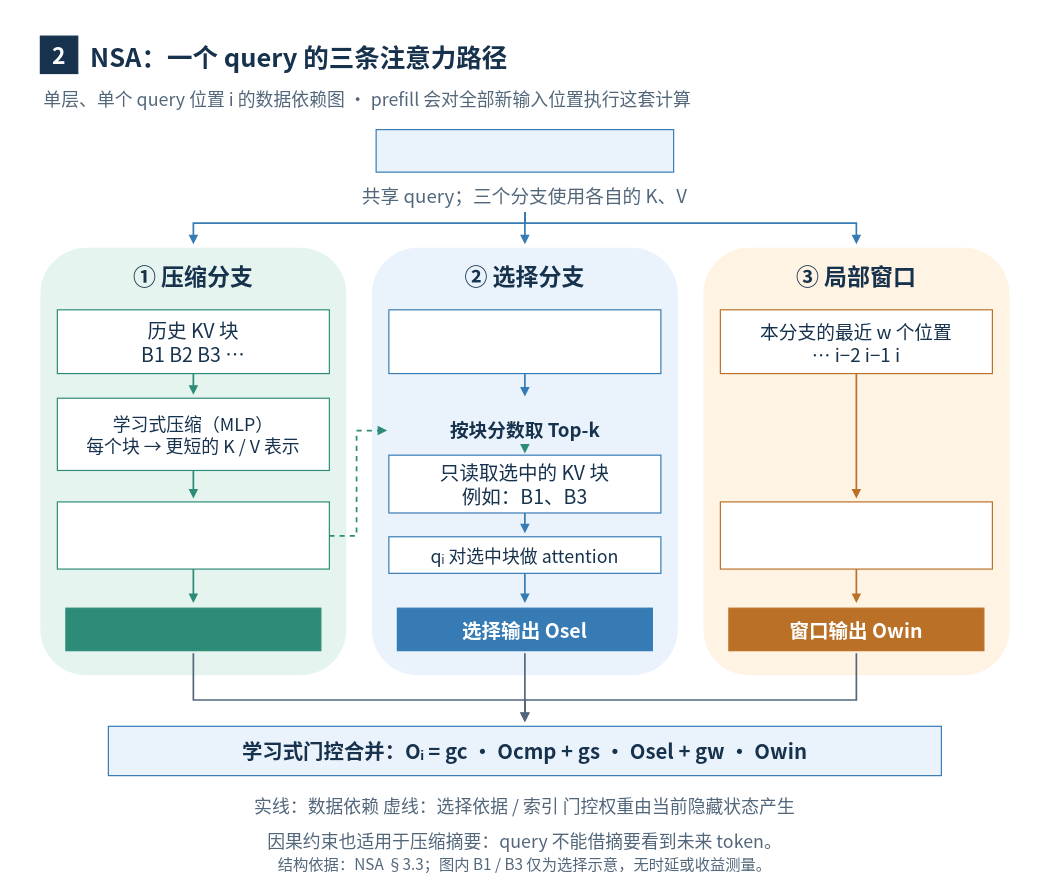
The diagram is 1049 pixels wide and 896 high, and some of its shapes have lost their labels. Each missing label, with the box of its shape:
qᵢ 对因果可见的摘要 计算 compressed attention: (56, 501, 330, 569)
qᵢ 对局部窗口 计算 window attention: (719, 501, 993, 569)
压缩输出 Ocmp: (65, 607, 321, 651)
当前 query qᵢ: (375, 129, 674, 172)
本分支的原始精度 KV B1 B2 B3 …: (388, 309, 661, 374)
